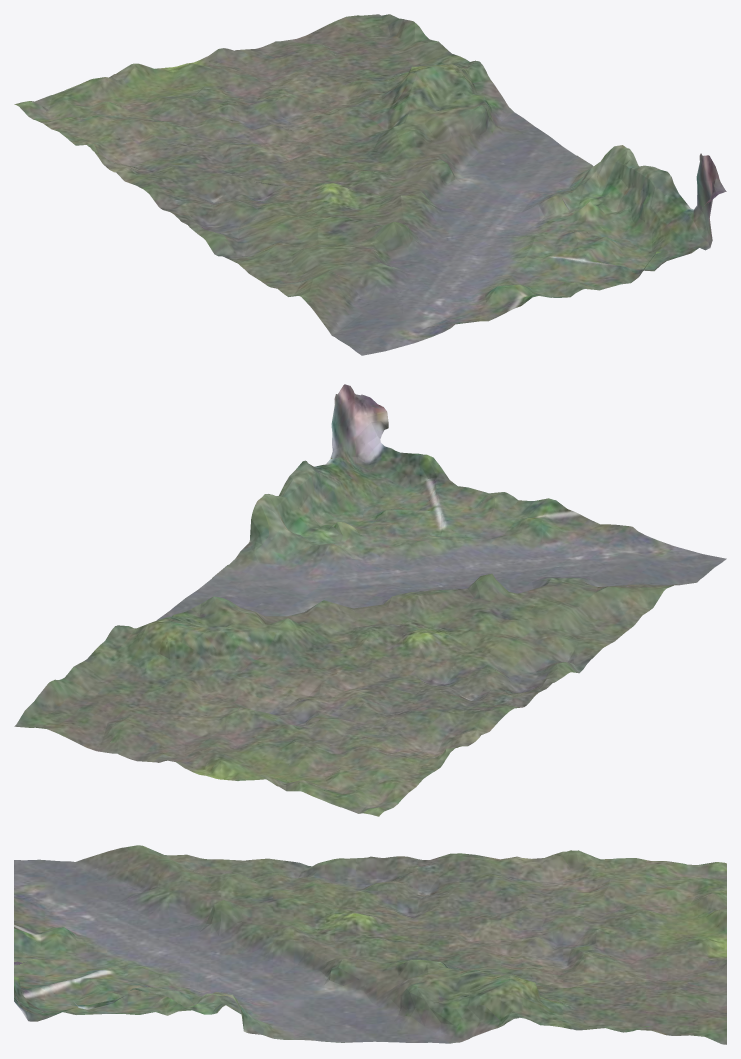
File: Tile_+000_+007_L21_0000210.glb
3 views of the same model, one above another, from view 1: azimuth 30°, elevation 25°; view 2: azimuth 150°, elevation 25°; view 3: azimuth 270°, elevation 25° (orthographic). The views are drawn at different scales.
Visible parts, largest first — view 1: rtc; view 2: rtc; view 3: rtc.
Part boxes in pixels (bbox=[...]): rtc: bbox=[14, 14, 726, 355]; rtc: bbox=[14, 384, 726, 816]; rtc: bbox=[14, 845, 726, 1044].
Bounding box in the file's own units: 15.52 × 4.31 × 25.63.
1 material, 1 textured.
